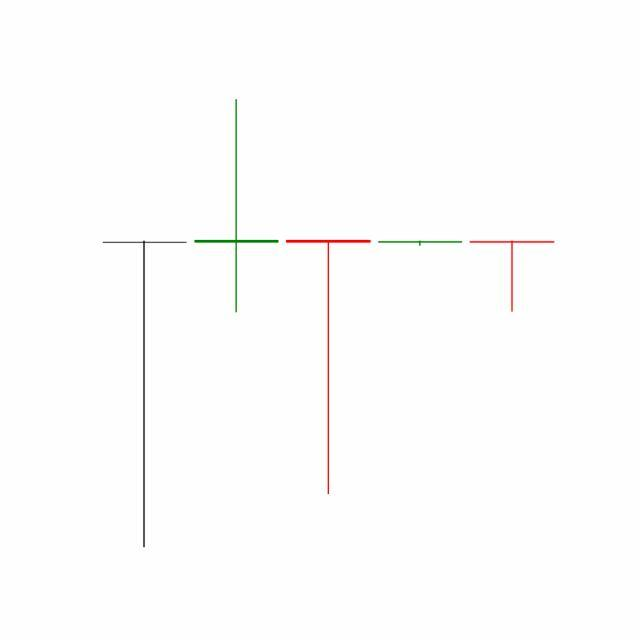Dragonfly Doji: (466, 240, 559, 313)
